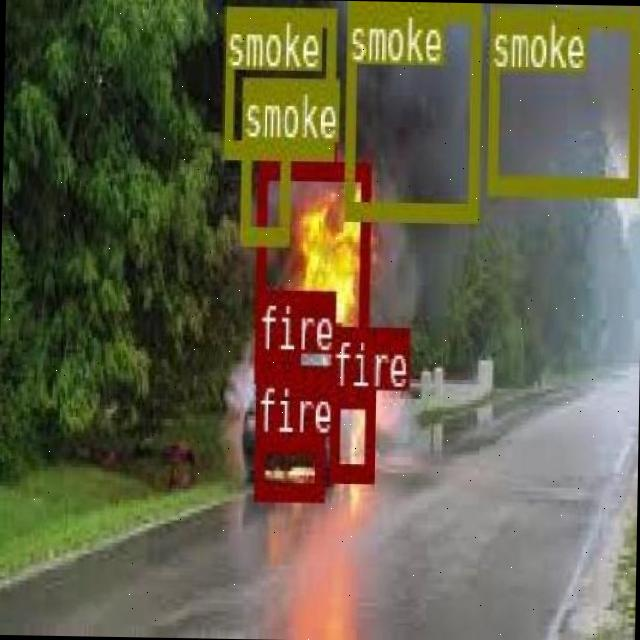fire: (254, 158, 369, 380), (253, 434, 323, 500), (327, 386, 374, 478), (254, 348, 298, 400)
smoke: (340, 1, 478, 218), (486, 5, 638, 192), (222, 4, 334, 155), (238, 140, 290, 242)
